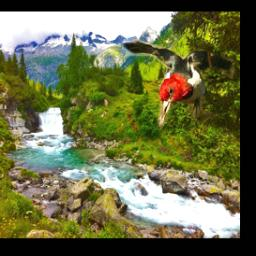Woodpecker: (116, 33, 235, 128)
